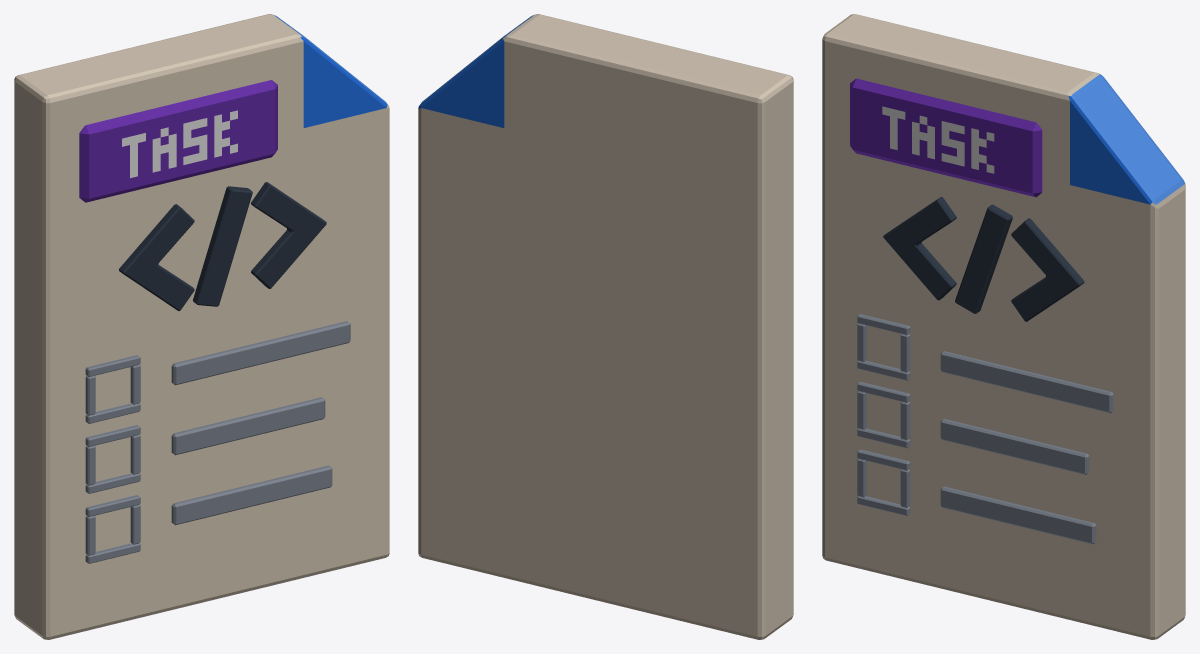
The model's file is work_coding_task_v01.glb.
3 renders of one model, left to right at view 1: azimuth 30°, elevation 25°; view 2: azimuth 150°, elevation 25°; view 3: azimuth 330°, elevation 25°, orthographic. The views are drawn at different scales.
Visible parts, largest first — view 1: coding_task; view 2: coding_task; view 3: coding_task.
Boxes of the visible parts, x1,y1,x2,y2 form: coding_task: (14, 14, 389, 639); coding_task: (418, 14, 793, 639); coding_task: (822, 14, 1185, 639).
Size of the model in its own units: 0.96 by 1.44 by 0.193.
